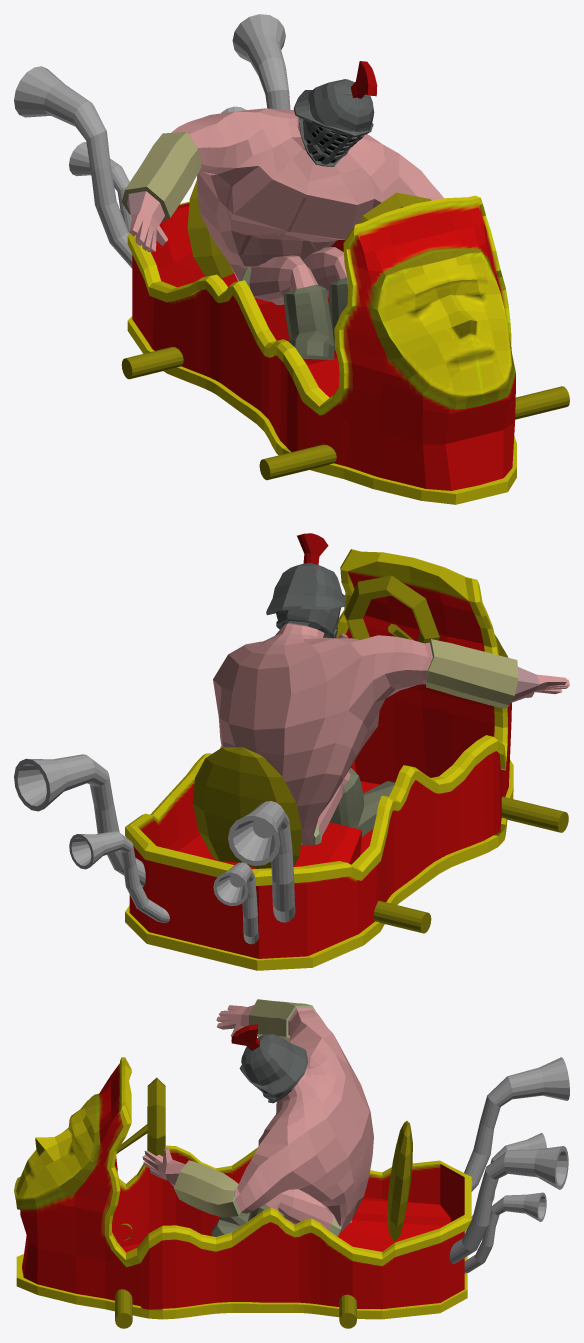
The model's file is gladiVacile_000559.obj.
3 renders of one model, top to bottom at view 1: azimuth 30°, elevation 25°; view 2: azimuth 150°, elevation 25°; view 3: azimuth 270°, elevation 25°, orthographic. The views are drawn at different scales.
Parts seen in each view (by area): view 1: GladiChasis_GladiChasisH, Gadiador_Gladiador_H.001, GladiTubos_GladiTubosH, GladiVolante_GladiVolanteH; view 2: GladiChasis_GladiChasisH, Gadiador_Gladiador_H.001, GladiTubos_GladiTubosH, GladiVolante_GladiVolanteH; view 3: GladiChasis_GladiChasisH, Gadiador_Gladiador_H.001, GladiTubos_GladiTubosH, GladiVolante_GladiVolanteH.
Part boxes in pixels (x1,y1,x2,y2): GladiChasis_GladiChasisH: (127,195,516,504); Gadiador_Gladiador_H.001: (121,61,443,359); GladiTubos_GladiTubosH: (14,14,290,268); GladiVolante_GladiVolanteH: (121,180,569,480); GladiChasis_GladiChasisH: (125,549,513,970); Gadiador_Gladiador_H.001: (213,533,569,845); GladiTubos_GladiTubosH: (14,754,295,944); GladiVolante_GladiVolanteH: (192,575,568,933); GladiChasis_GladiChasisH: (14,1057,471,1319); Gadiador_Gladiador_H.001: (142,999,373,1236); GladiTubos_GladiTubosH: (449,1057,569,1273); GladiVolante_GladiVolanteH: (115,1077,412,1328).
Bounding box in the file's own units: 6.72 × 5.61 × 10.78.
